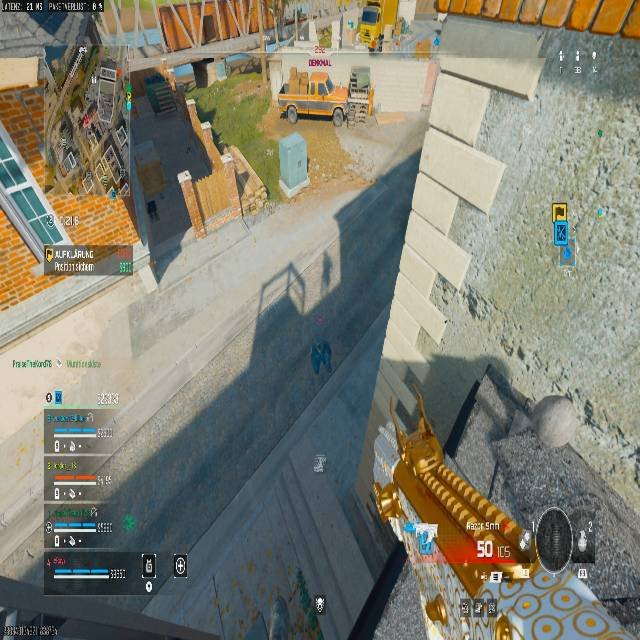head: (531, 508, 596, 570)
player: (311, 338, 332, 374)
